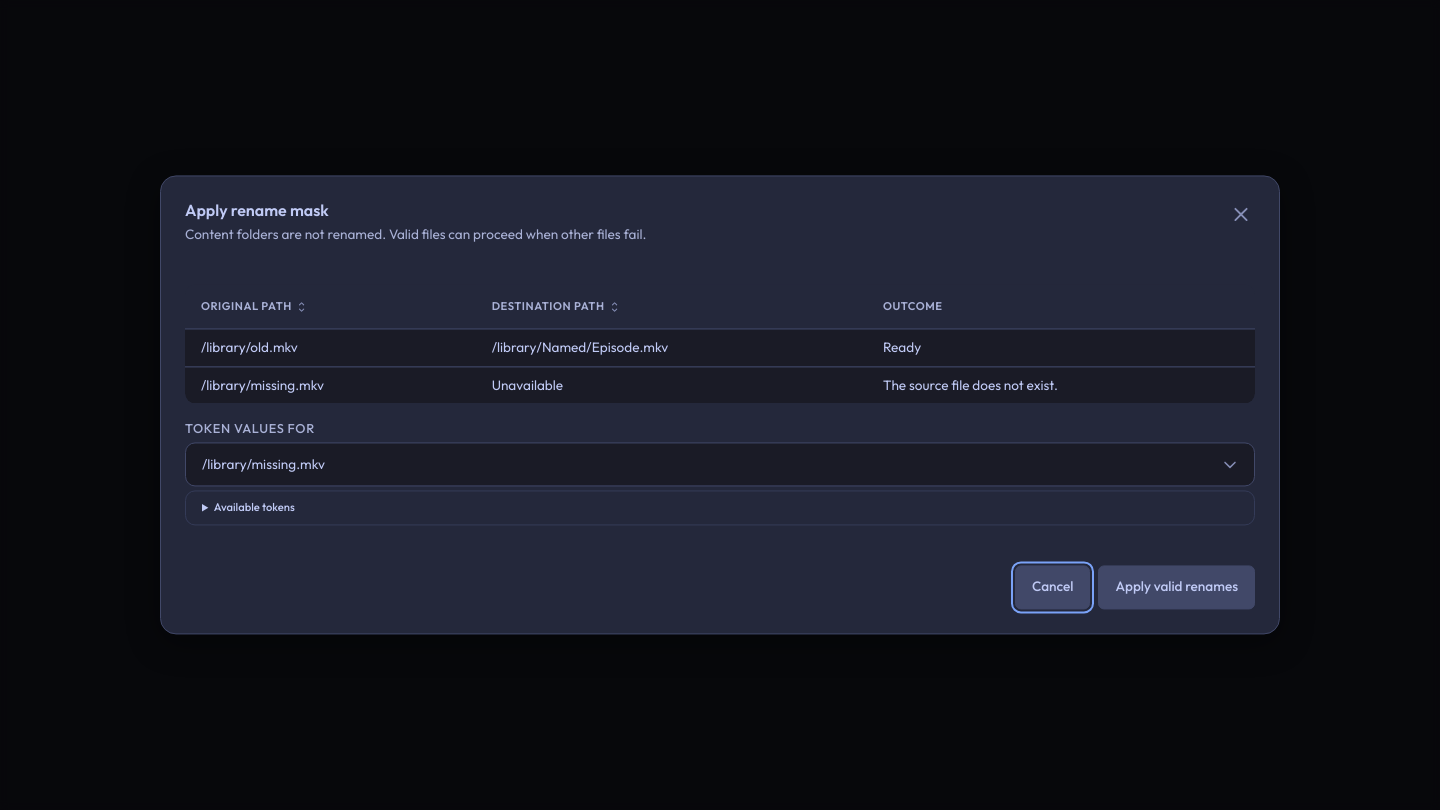
Scenario: FileRenameDialog › keeps per-file errors visible and reports mixed outcomes
Expected: the text "The source file does not exist." is shown, [867,367,1255,404]
Click the button "Apply valid renames". click: coordinates (1177, 588)
box: [1098,566,1255,610]
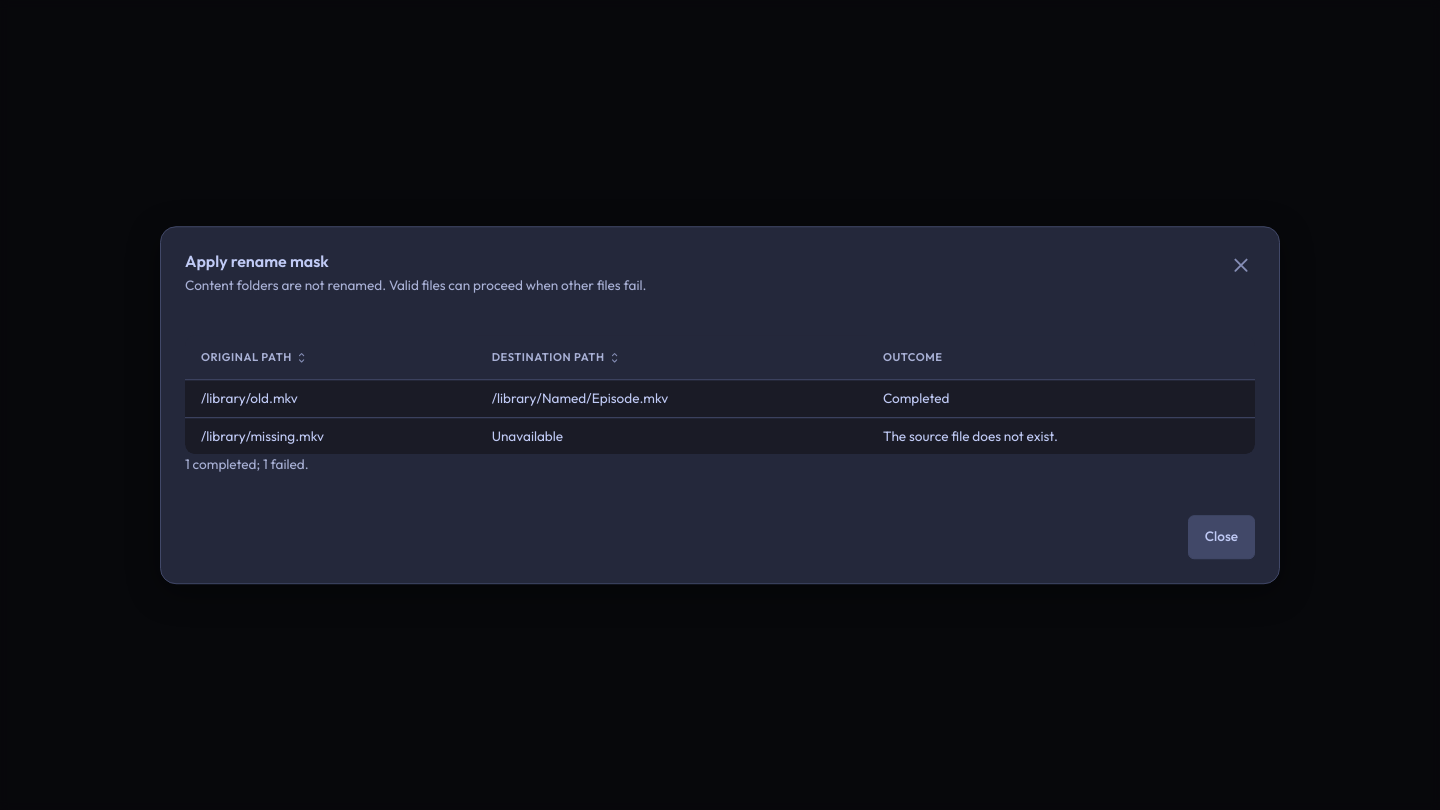
Expected: the text "The source file does not exist." is shown, [867,418,1255,454]
Result: the text "1 completed; 1 failed." is shown at [185,455,309,473]
